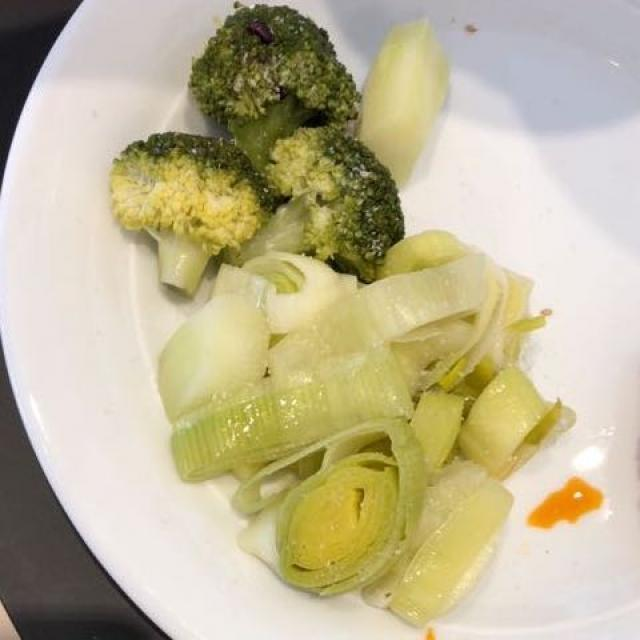broccoli: (115, 14, 431, 285)
leek: (163, 247, 561, 618)
